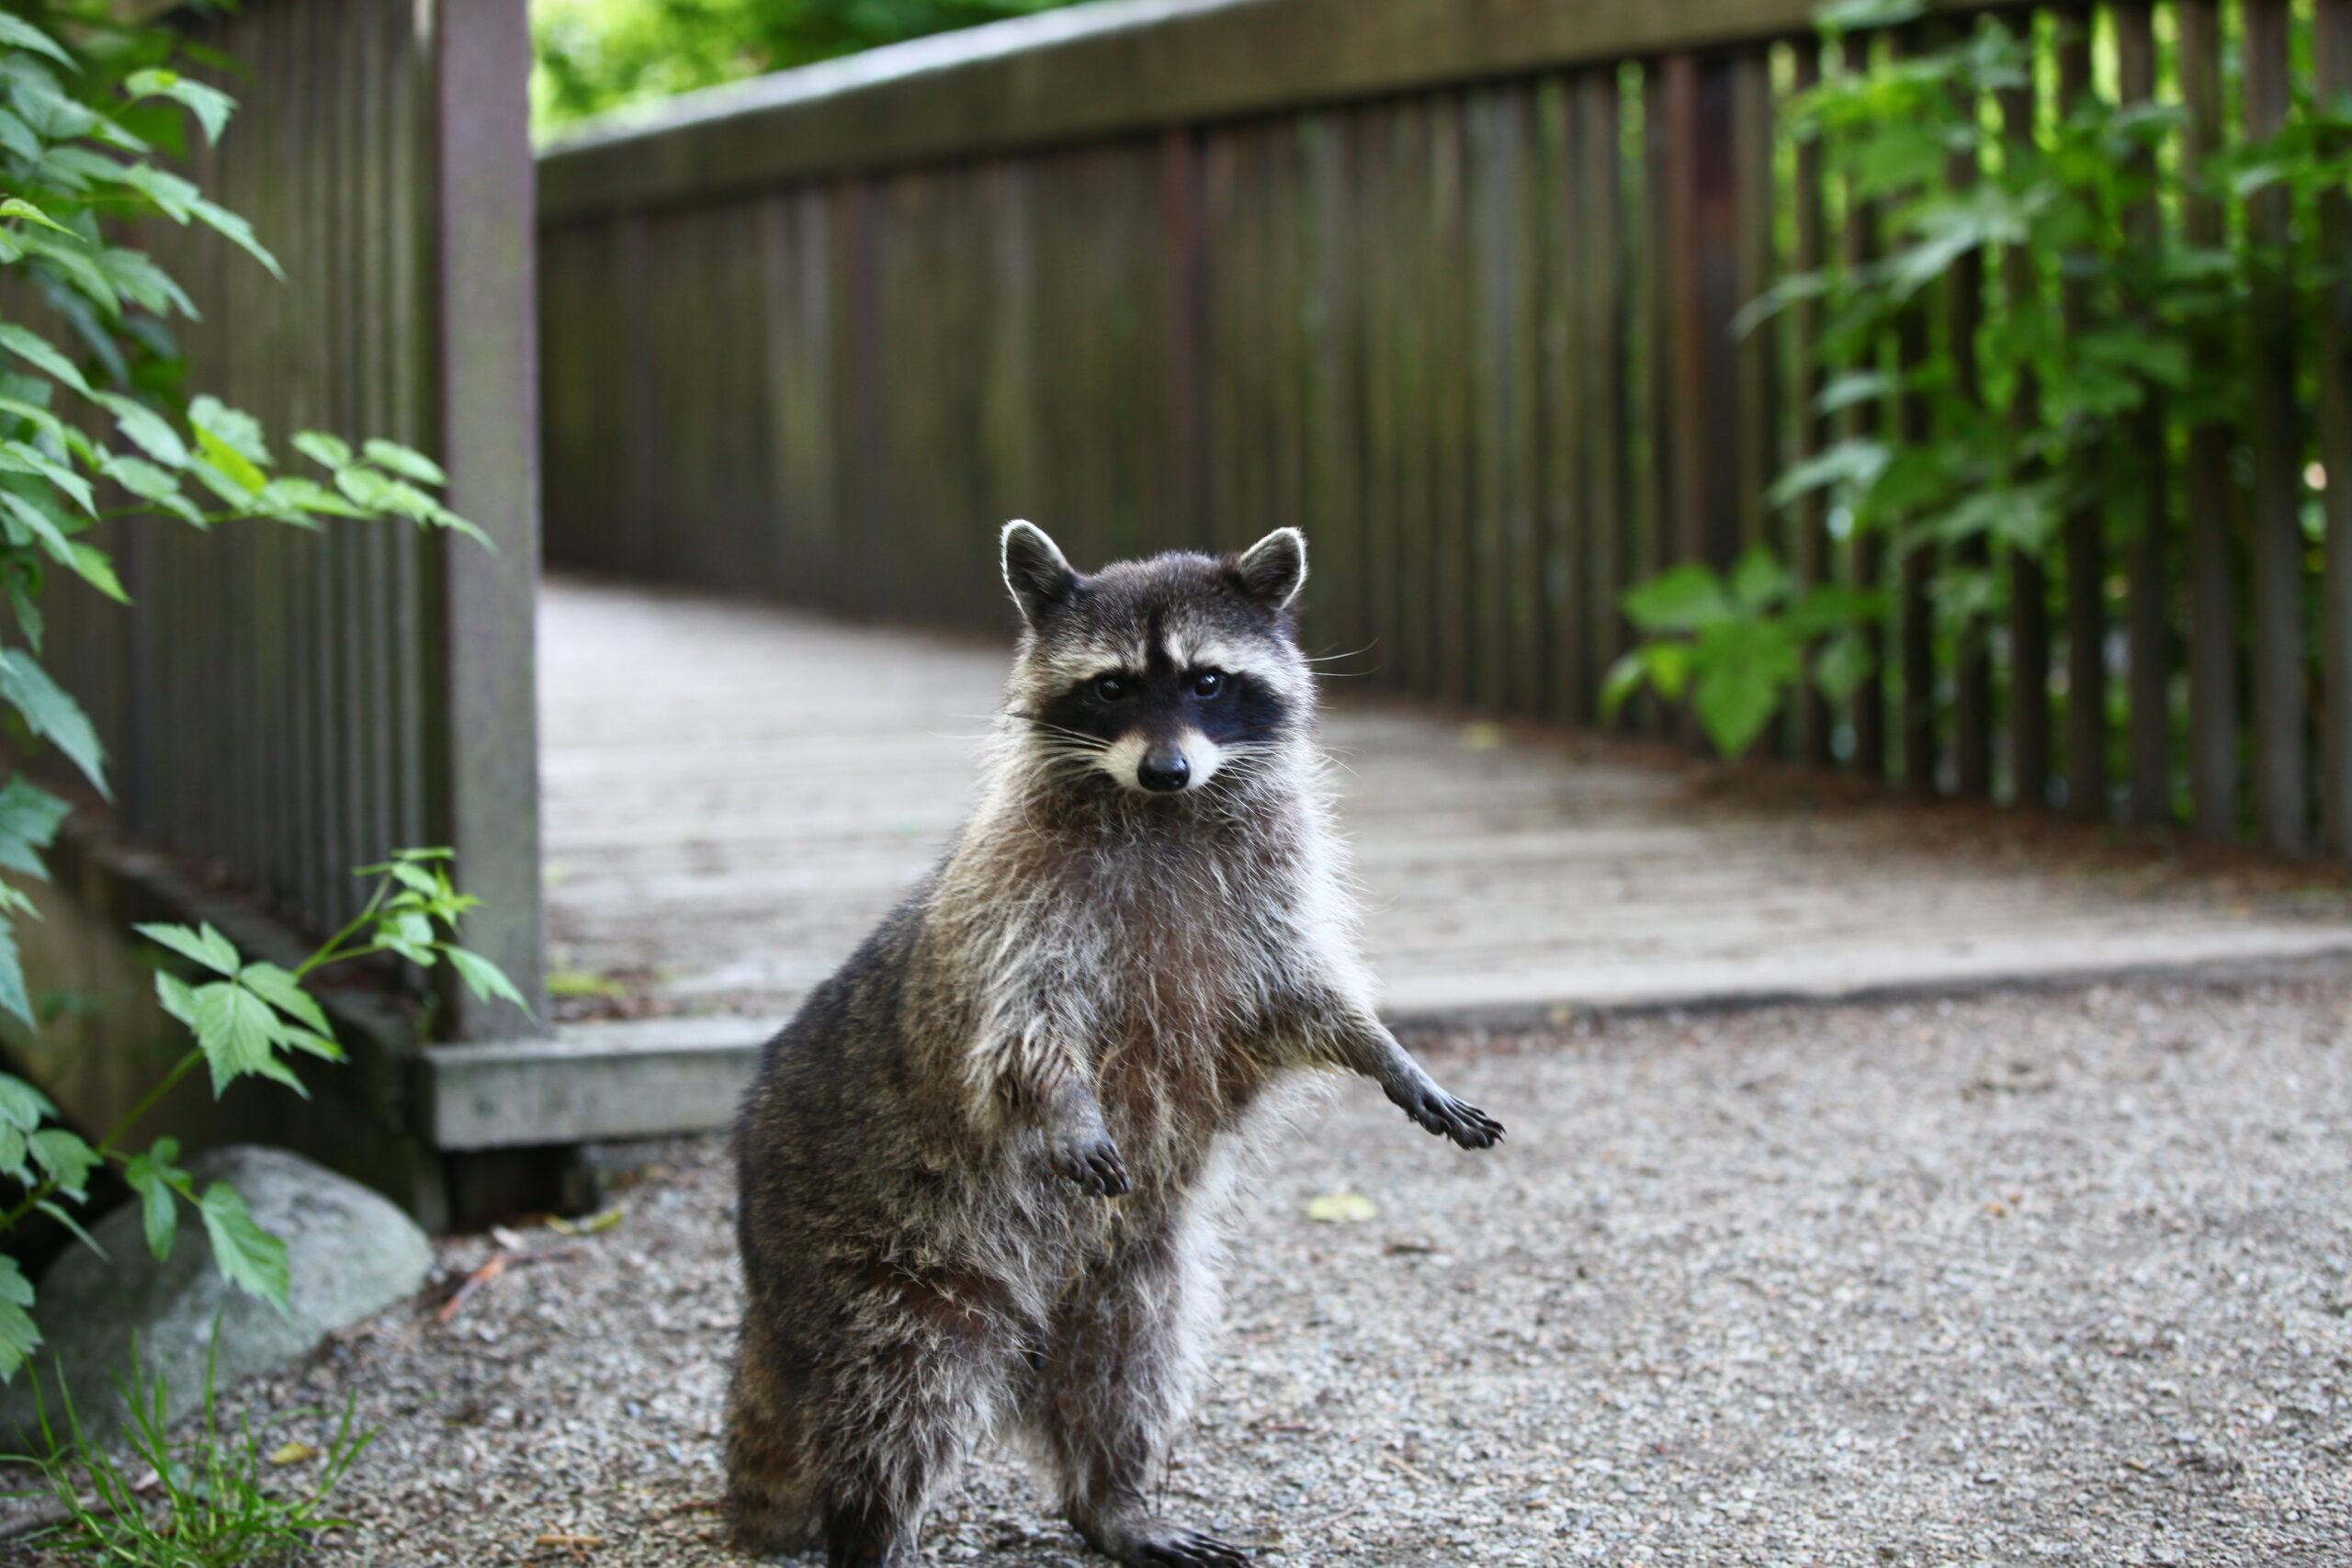raccoon: (693, 516, 1515, 1568)
